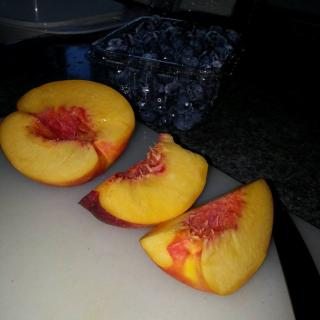Peach: (140, 178, 276, 298), (0, 80, 135, 188), (78, 131, 209, 229)
